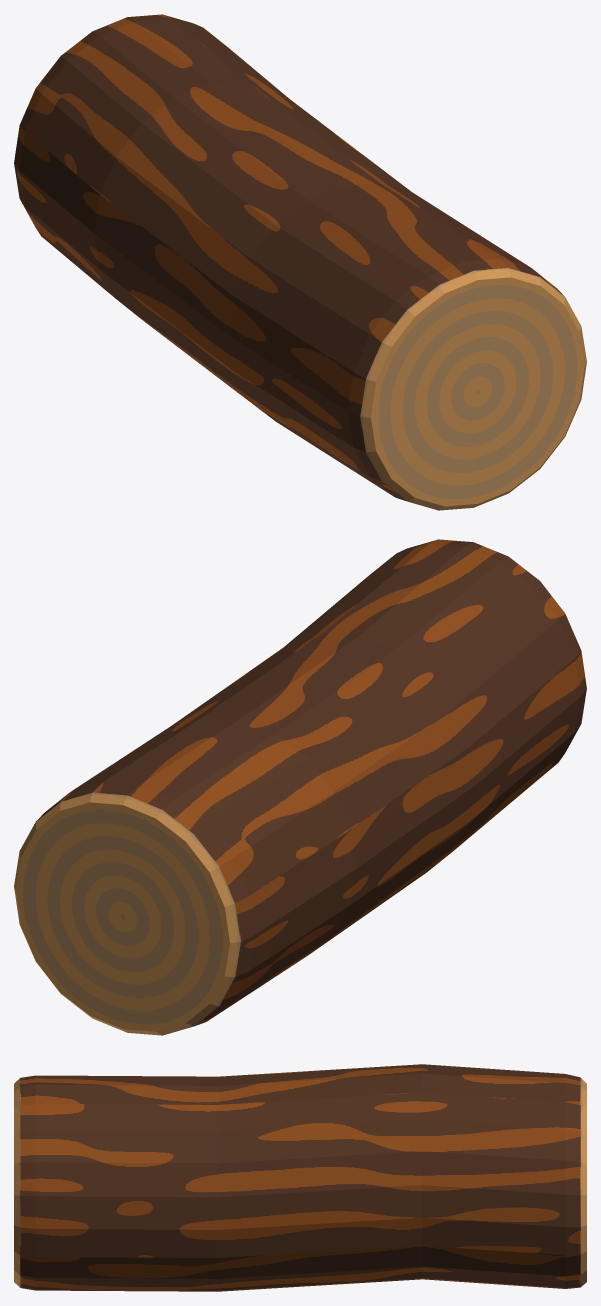
File: log.fbx
The picture shows the model from 3 angles, top to bottom: view 1: azimuth 30°, elevation 25°; view 2: azimuth 150°, elevation 25°; view 3: azimuth 270°, elevation 25°; orthographic projection. The views are drawn at different scales.
Visible parts, largest first — view 1: Cylinder.006; view 2: Cylinder.006; view 3: Cylinder.006.
Boxes of the visible parts, left/top/right/bottom form: Cylinder.006: left=14, top=14, right=586, bottom=510; Cylinder.006: left=14, top=539, right=586, bottom=1035; Cylinder.006: left=14, top=1064, right=586, bottom=1291.
Bounding box in the file's own units: 172 × 169 × 427.
Materials: 1 (1 with a texture image).
